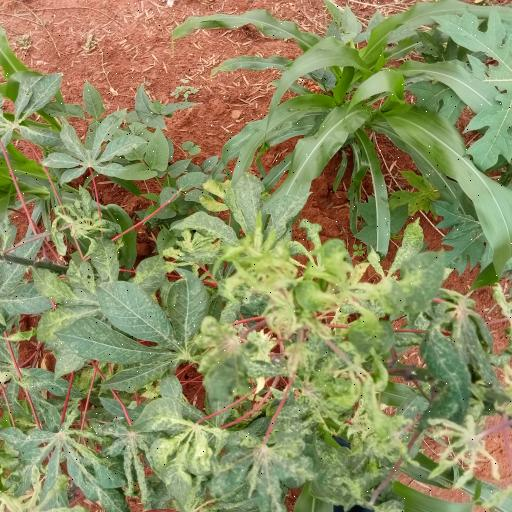Cassava_Mosaic: (56, 270, 217, 390), (7, 426, 124, 512), (139, 398, 224, 503), (42, 118, 150, 178), (234, 431, 310, 512)
